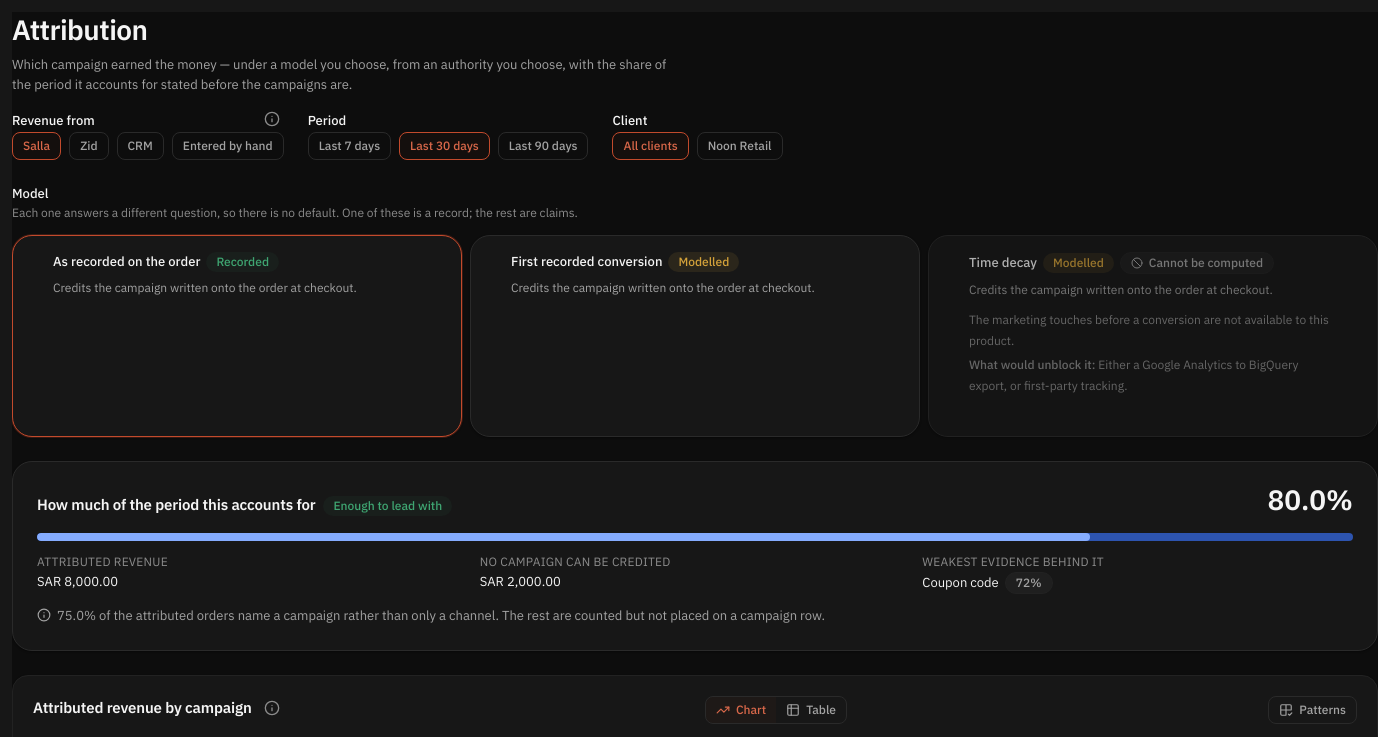
Test: attribution › offers the lookback window only for a model that reads a history
Expected: the text "Look back" is not shown
Click the button "First recorded conversion" at (587, 261), box [495, 236, 895, 314]
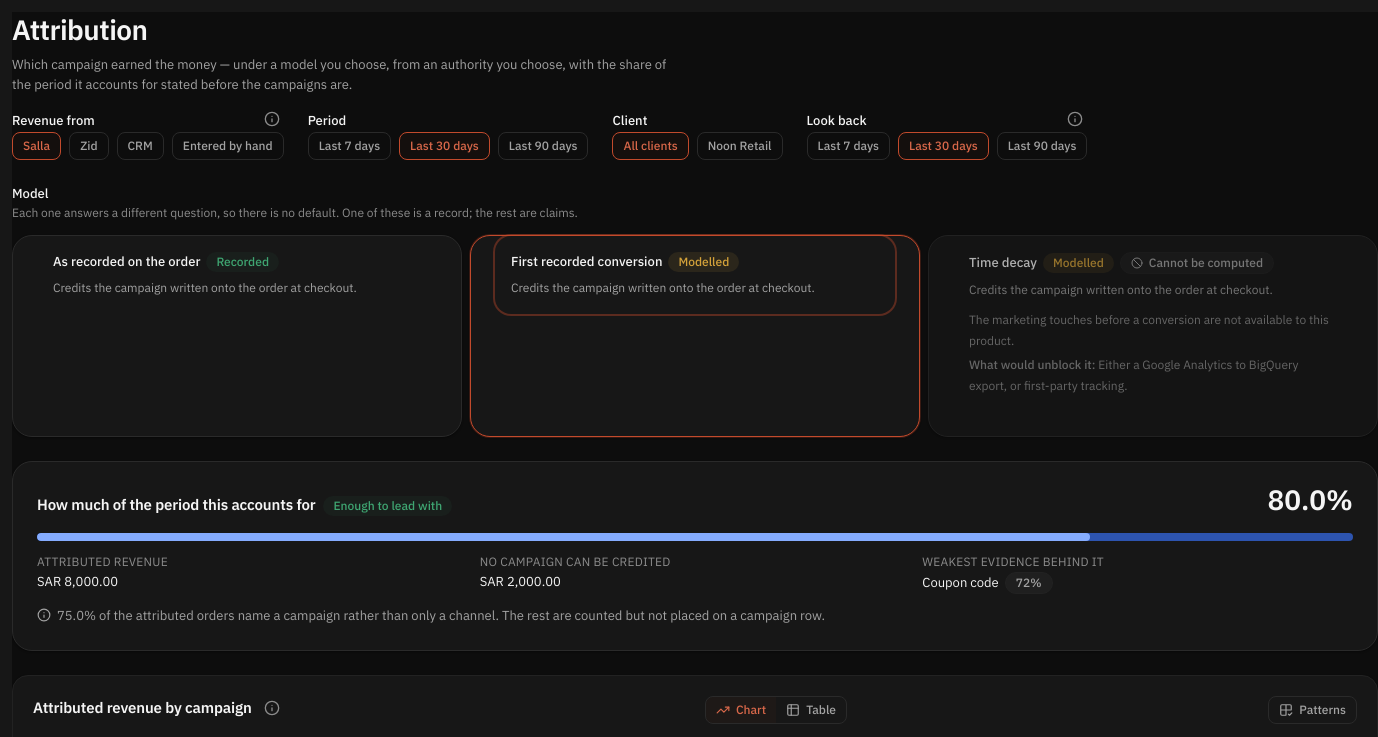
Result: the text "Look back" is shown at [806, 112, 866, 132]
